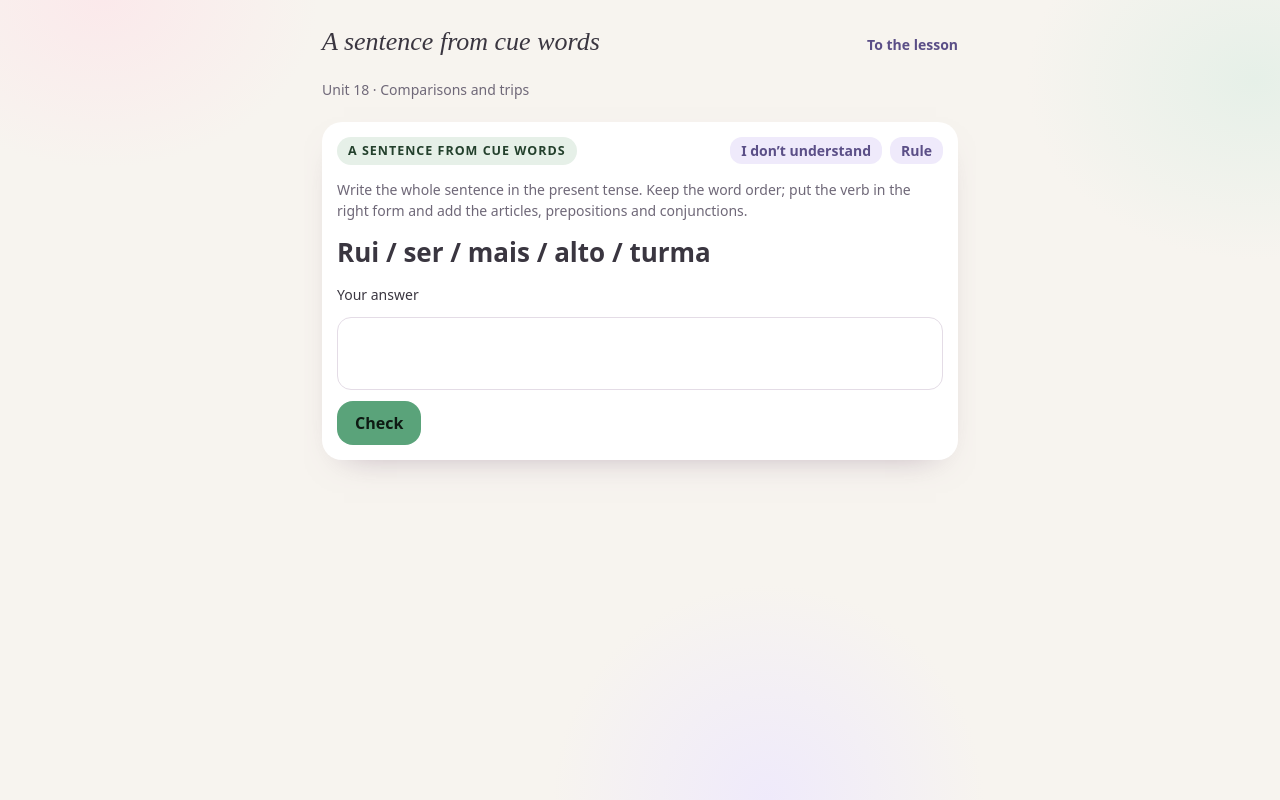
Test: PackDrill › a wrong answer shows the model answer and the reason
Type "não sei" into the text box with test id "pack-drill-answer".
click(640, 353); type("não sei")  # box [337,316,943,390]
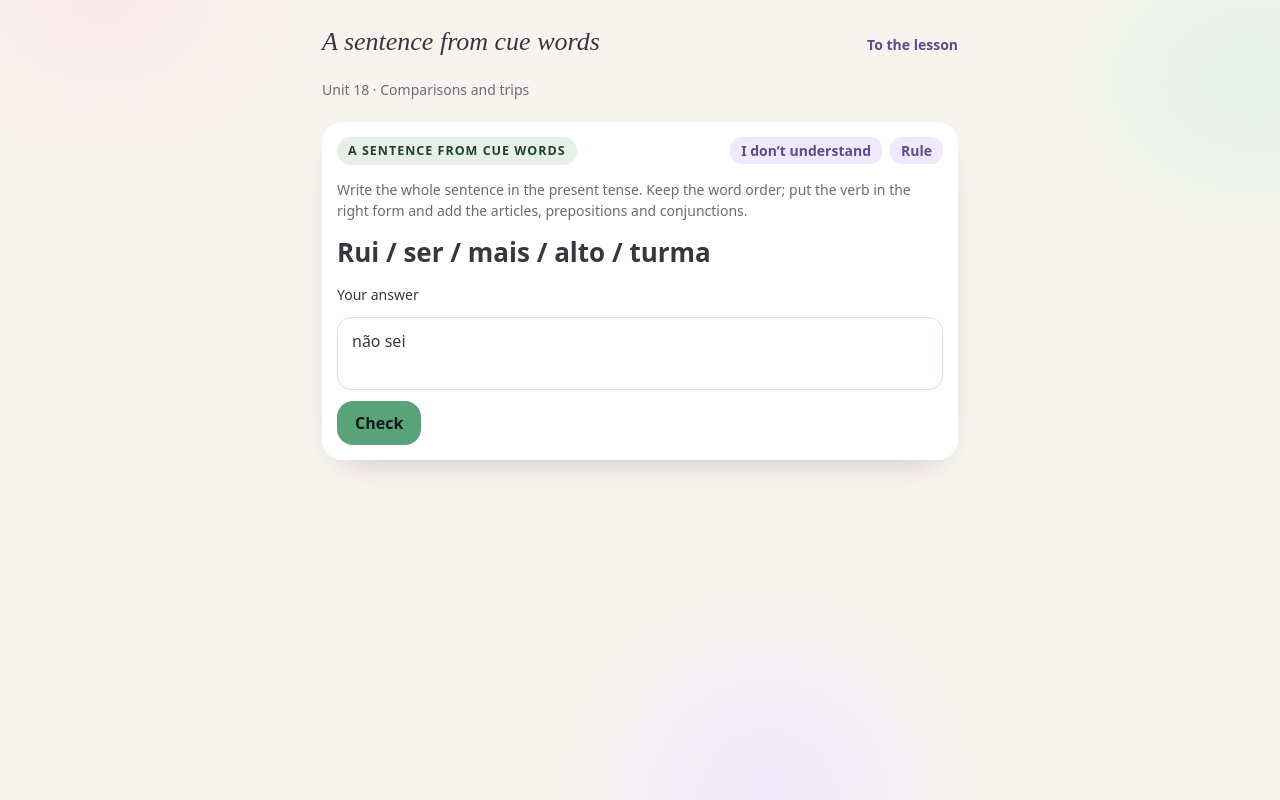
Click the button "Check".
click(379, 423)  # box [337,401,421,445]
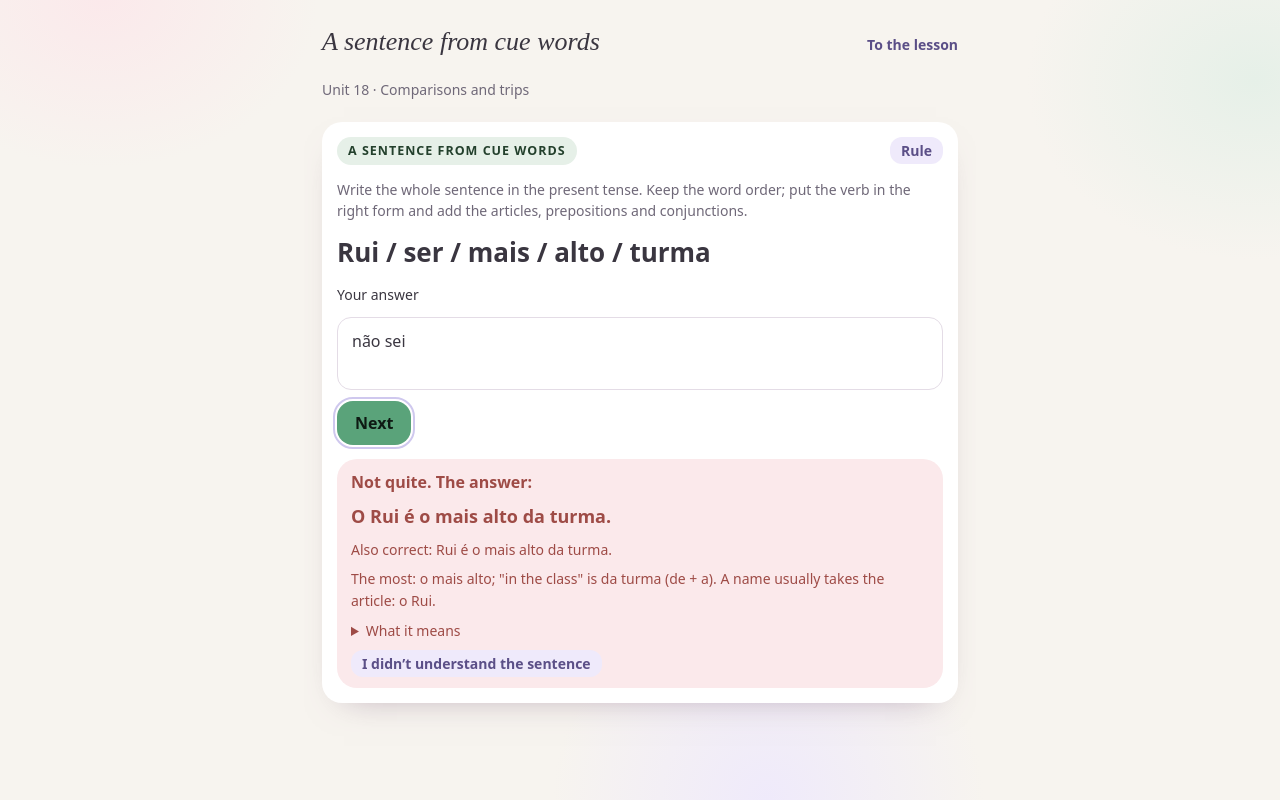
Expected: the text with test id "pack-drill-expected" reads "O Rui é o mais alto da turma.", [351,504,611,528]
Expected: the text with test id "pack-drill-why" shows "The most: o mais alto; \"in the class\" is da turma (de + a). A name usually takes the article: o Rui.", [351,570,884,610]
